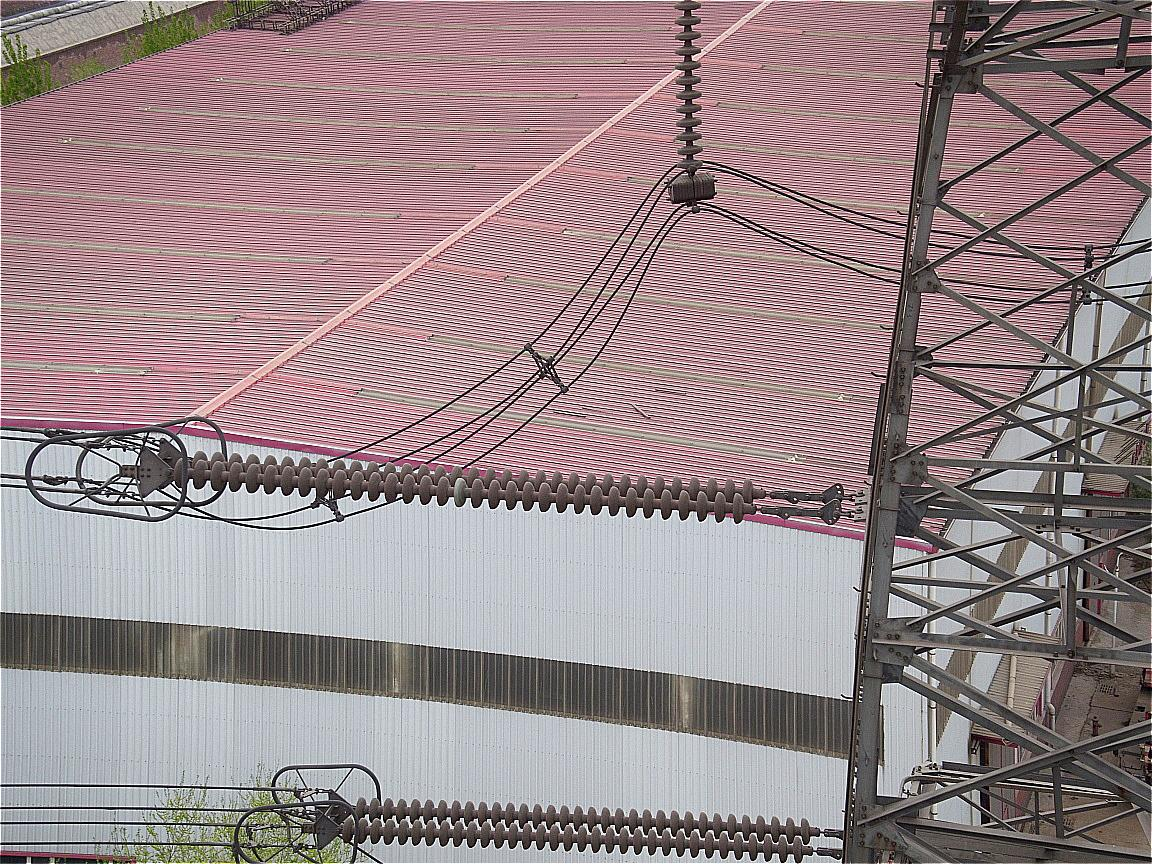insultor1: (174, 448, 757, 524), (346, 797, 814, 860)
